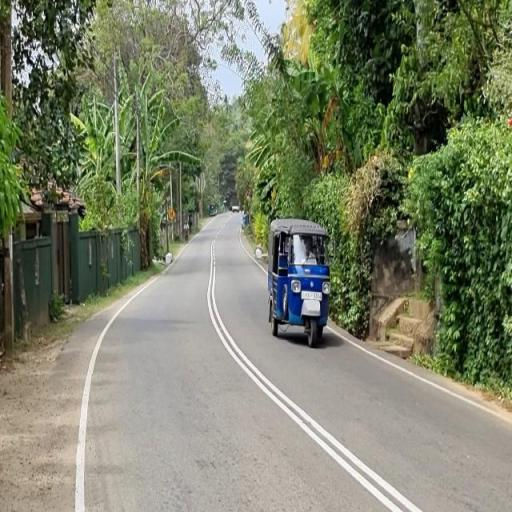double_white_line: (206, 301, 428, 512)
